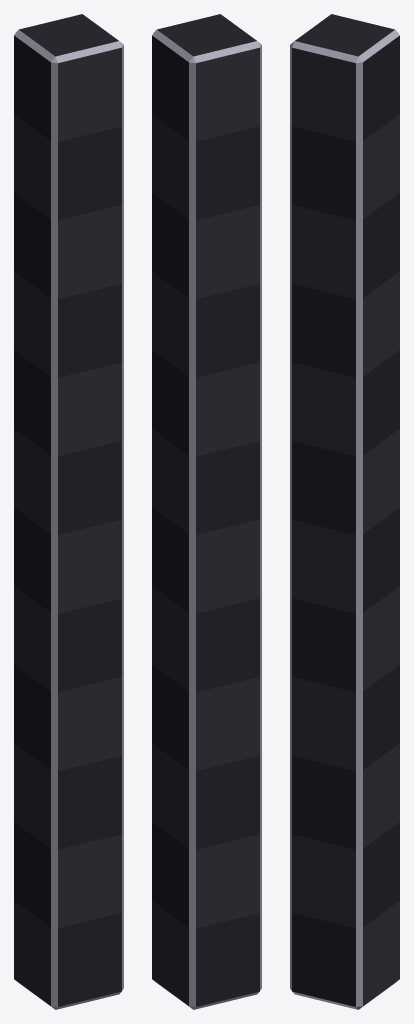
File: PMP-M-Ground-Main-0.32x0.32x4-V1.fbx
The picture shows the model from 3 angles, left to right: view 1: azimuth 30°, elevation 25°; view 2: azimuth 210°, elevation 25°; view 3: azimuth 330°, elevation 25°; orthographic projection.
Parts seen in each view (by area): view 1: MONO-Terrain-A-0.32x0.32x4; view 2: MONO-Terrain-A-0.32x0.32x4; view 3: MONO-Terrain-A-0.32x0.32x4.
Part boxes in pixels (x1,y1,x2,y2): MONO-Terrain-A-0.32x0.32x4: (14, 14, 123, 1009); MONO-Terrain-A-0.32x0.32x4: (152, 14, 261, 1009); MONO-Terrain-A-0.32x0.32x4: (290, 14, 399, 1009).
Bounding box in the file's own units: 32 × 400 × 32.
